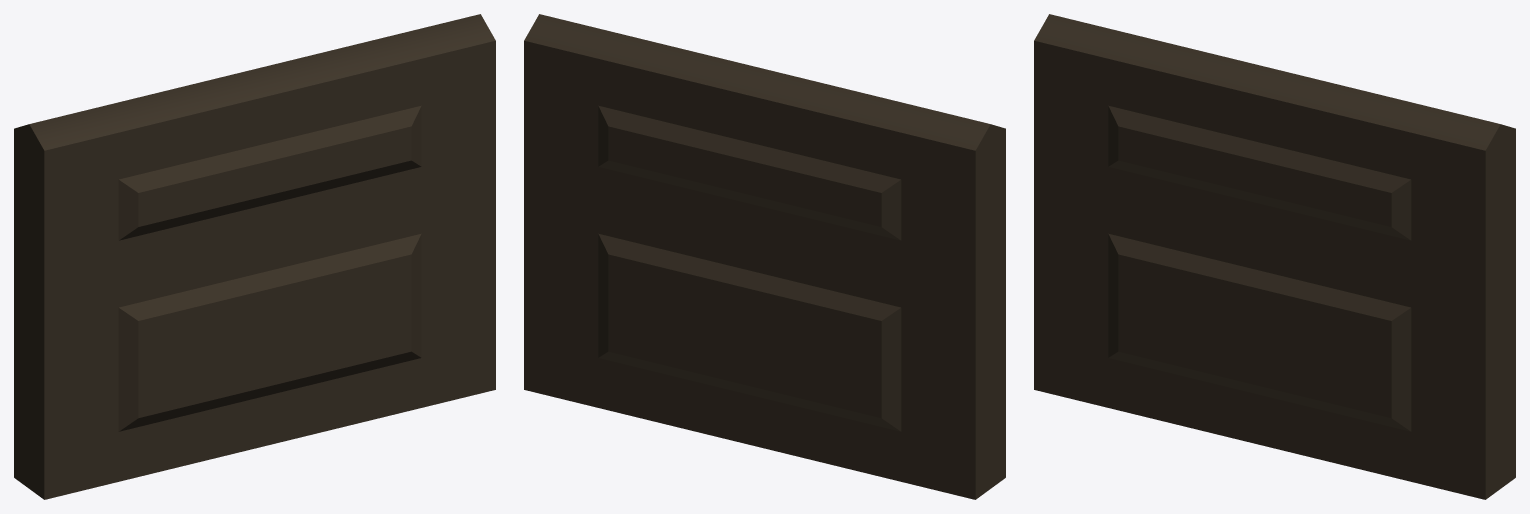
File: Itr_Bed_Single_back_01.FBX
3 renders of one model, left to right at view 1: azimuth 30°, elevation 25°; view 2: azimuth 150°, elevation 25°; view 3: azimuth 330°, elevation 25°, orthographic.
Parts seen in each view (by area): view 1: Itr_Bed_Single_back_01; view 2: Itr_Bed_Single_back_01; view 3: Itr_Bed_Single_back_01.
Part boxes in pixels (x1,y1,x2,y2): Itr_Bed_Single_back_01: (14, 14, 495, 499); Itr_Bed_Single_back_01: (524, 14, 1005, 499); Itr_Bed_Single_back_01: (1034, 14, 1515, 499).
Size of the model in its own units: 48.44 by 37.4 by 7.45.
